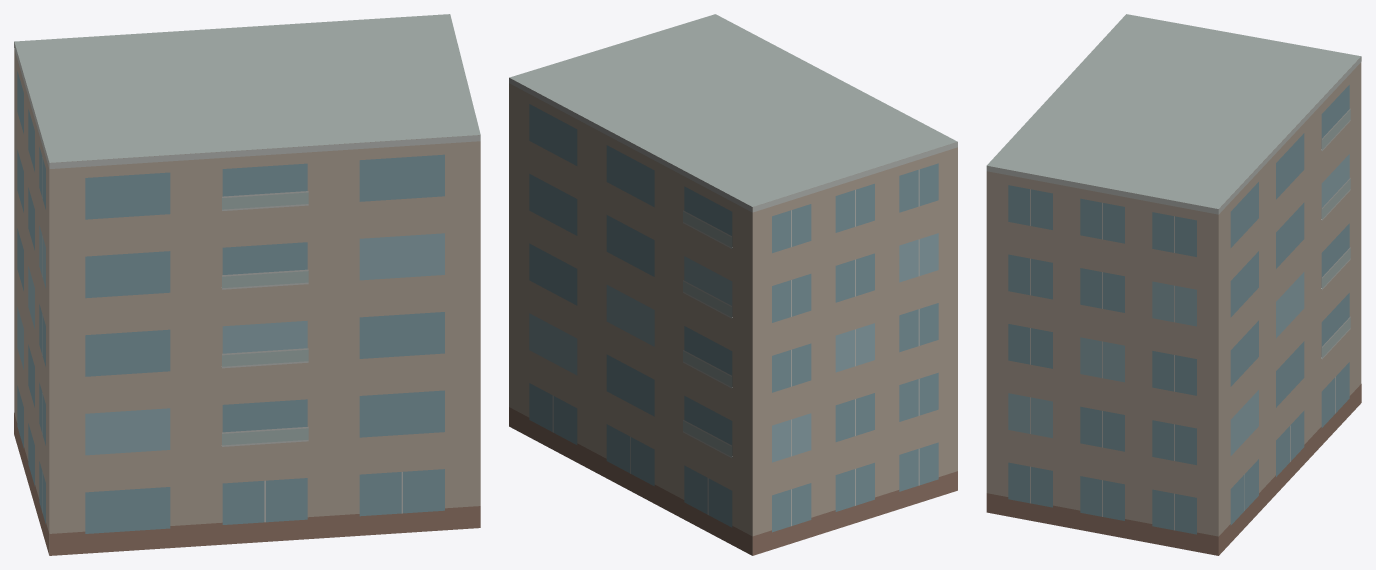
File: survey-upis-32972198.glb
3 views of the same model, side by side, from view 1: azimuth 30°, elevation 25°; view 2: azimuth 150°, elevation 25°; view 3: azimuth 270°, elevation 25° (orthographic). The views are drawn at different scales.
Visible parts, largest first — view 1: survey-upis-32972198.tmp; view 2: survey-upis-32972198.tmp; view 3: survey-upis-32972198.tmp.
Boxes of the visible parts, x1=… form: survey-upis-32972198.tmp: x1=14, y1=14, x2=480, y2=555; survey-upis-32972198.tmp: x1=509, y1=14, x2=957, y2=555; survey-upis-32972198.tmp: x1=986, y1=14, x2=1361, y2=555.
Size of the model in its own units: 18.41 by 15.25 by 14.95.
